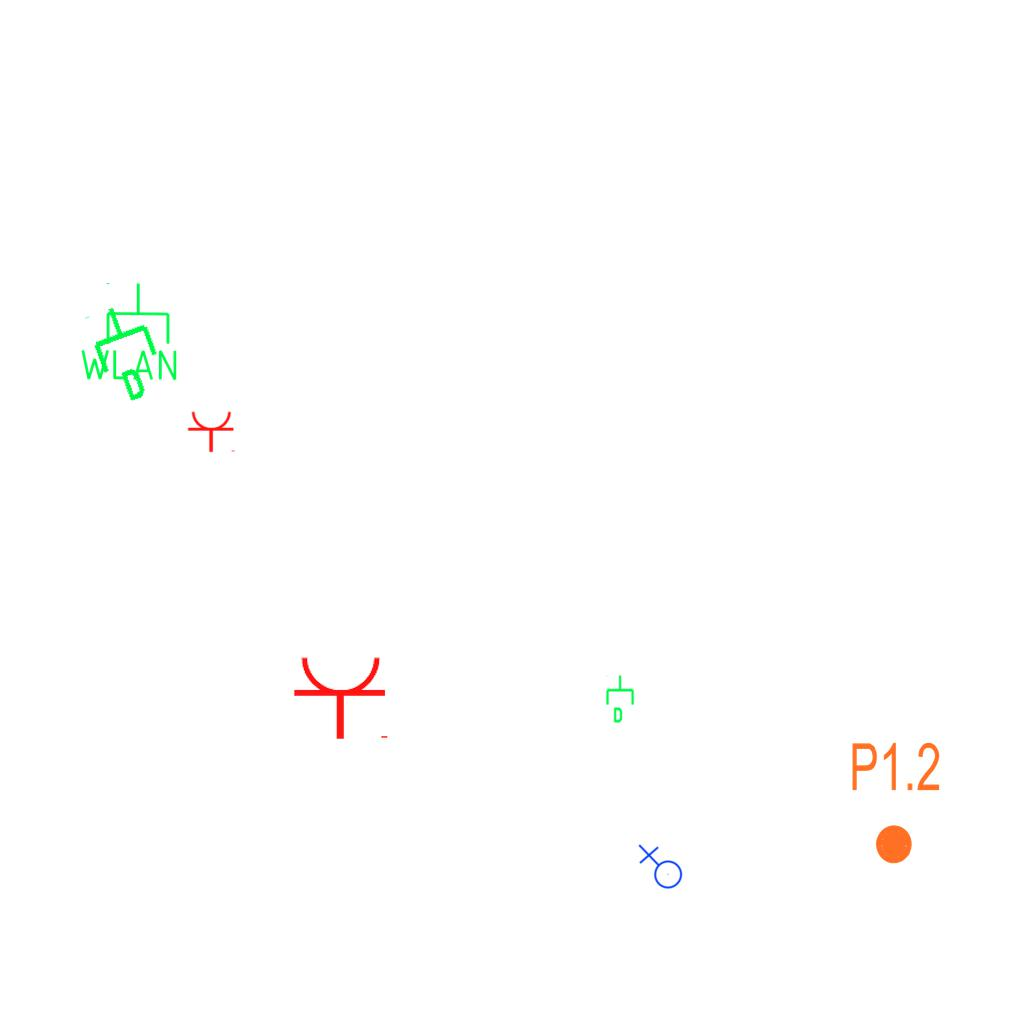Datenanschluss_einfach: (78, 293, 179, 411), (604, 674, 638, 724)
Downlight_LED_Einbauleuchten_Flur: (849, 739, 942, 867)
Elektroanschluss_allgemein_230V_Geraeteanschlussdose_230V: (636, 844, 683, 893)
Schukosteckdose_einfach: (292, 654, 392, 741), (187, 410, 237, 453)
WLAN: (76, 280, 181, 384)
